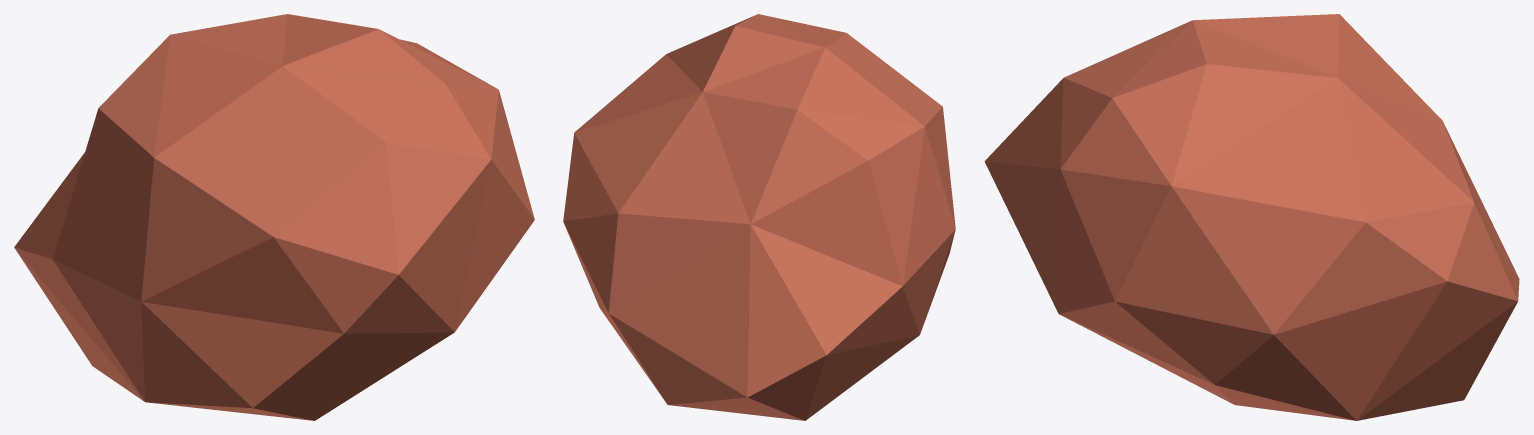
The model's file is stone_008.fbx.
3 views of the same model, side by side, from view 1: azimuth 30°, elevation 25°; view 2: azimuth 150°, elevation 25°; view 3: azimuth 270°, elevation 25° (orthographic). The views are drawn at different scales.
Visible parts, largest first — view 1: stone_008; view 2: stone_008; view 3: stone_008.
Boxes of the visible parts, left/top/right/bottom form: stone_008: left=14, top=14, right=534, bottom=420; stone_008: left=563, top=14, right=955, bottom=420; stone_008: left=984, top=14, right=1519, bottom=420.
Size of the model in its own units: 248 by 271 by 217.
